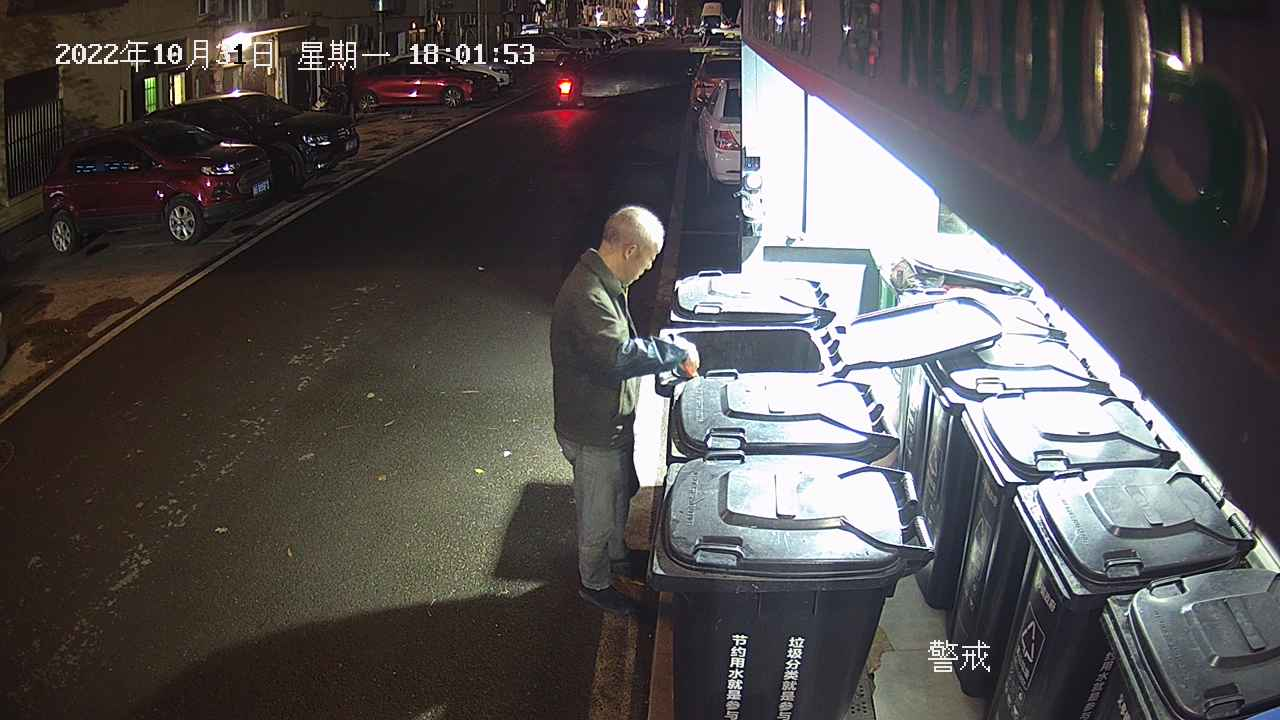person: (546, 203, 701, 620)
